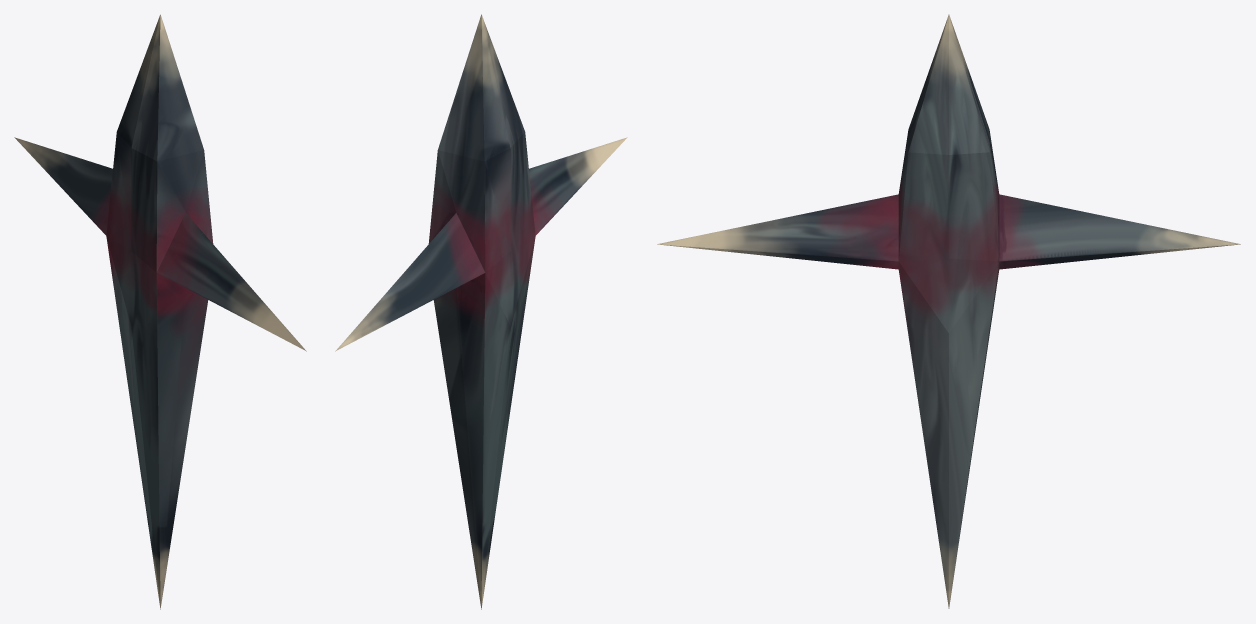
File: cross.glb
3 renders of one model, left to right at view 1: azimuth 30°, elevation 25°; view 2: azimuth 150°, elevation 25°; view 3: azimuth 270°, elevation 25°, orthographic.
Parts seen in each view (by area): view 1: Cube; view 2: Cube; view 3: Cube.
Part boxes in pixels (x1,y1,x2,y2): Cube: [14, 14, 306, 609]; Cube: [335, 14, 627, 609]; Cube: [657, 14, 1240, 608].
Bounding box in the file's own units: 1.33 × 13.07 × 11.64.
Materials: 1 (1 with a texture image).
